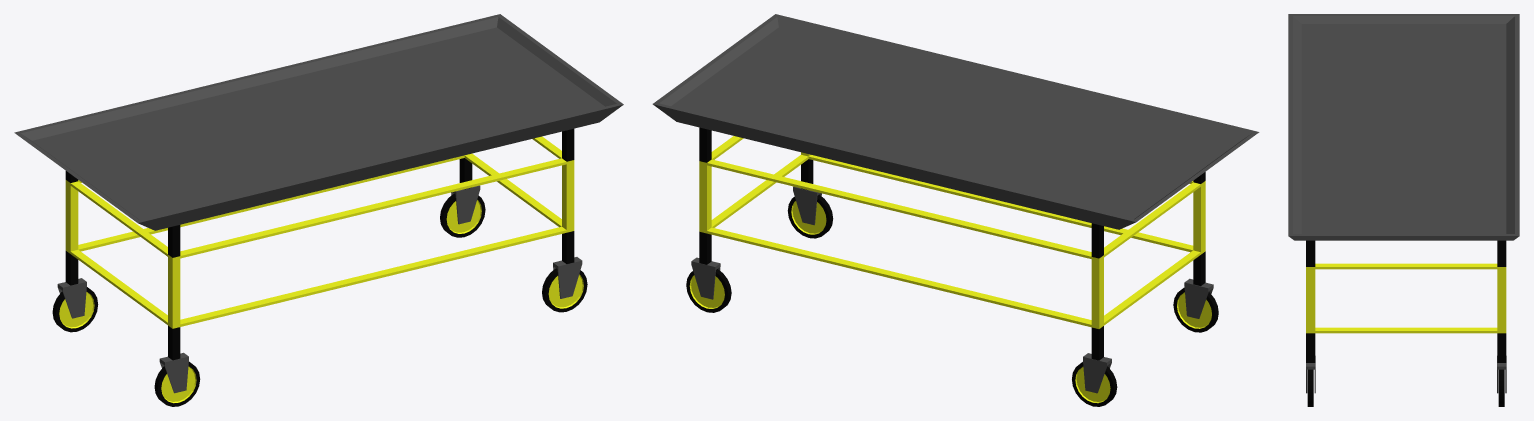
Rendered from dead_people_trolley.FBX.
3 renders of one model, left to right at view 1: azimuth 30°, elevation 25°; view 2: azimuth 150°, elevation 25°; view 3: azimuth 270°, elevation 25°, orthographic. The views are drawn at different scales.
Visible parts, largest first — view 1: dead_people_trolley; view 2: dead_people_trolley; view 3: dead_people_trolley.
Part boxes in pixels (x1,y1,x2,y2): dead_people_trolley: [14, 14, 623, 406]; dead_people_trolley: [652, 14, 1259, 406]; dead_people_trolley: [1288, 14, 1519, 406].
Bounding box in the file's own units: 224 × 89.73 × 98.85.
